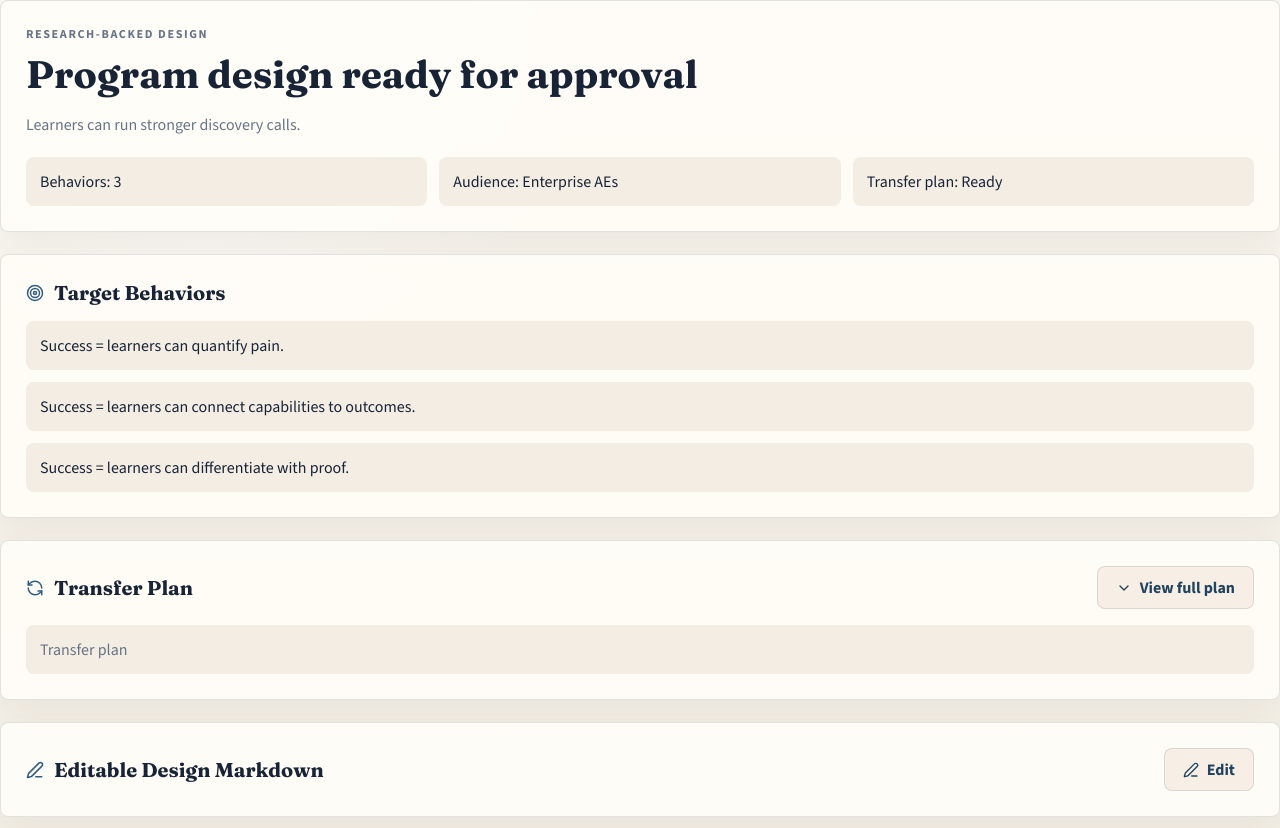
it: DesignApproval › reruns design from the editor and refreshes markdown with generated fallback
The width and height of the screenshot is (1280, 828).
Click the button with aria-label "Edit design markdown" at (1209, 770), box top-left (1164, 748), bottom-right (1254, 791)
(page scrolled)
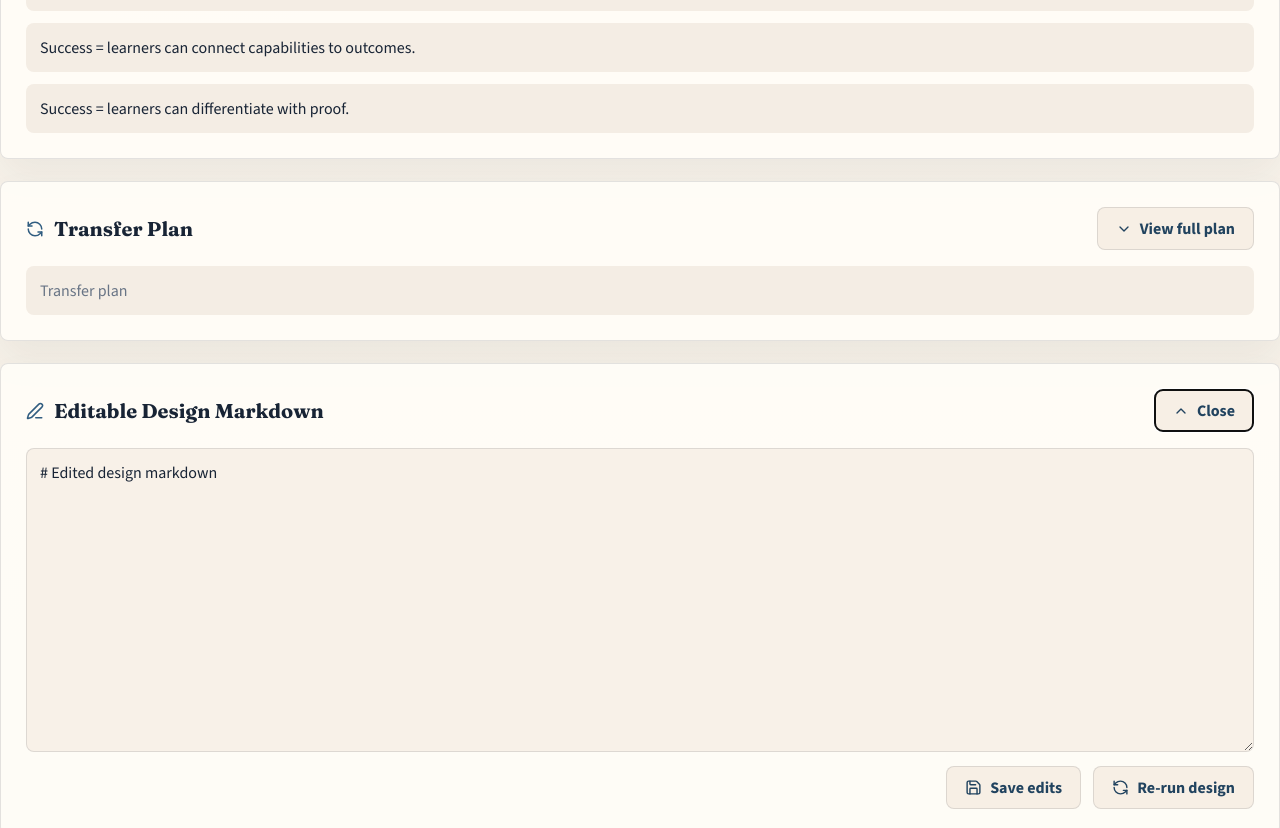
Click the button "Re-run design" at (1174, 788), box top-left (1093, 766), bottom-right (1254, 809)
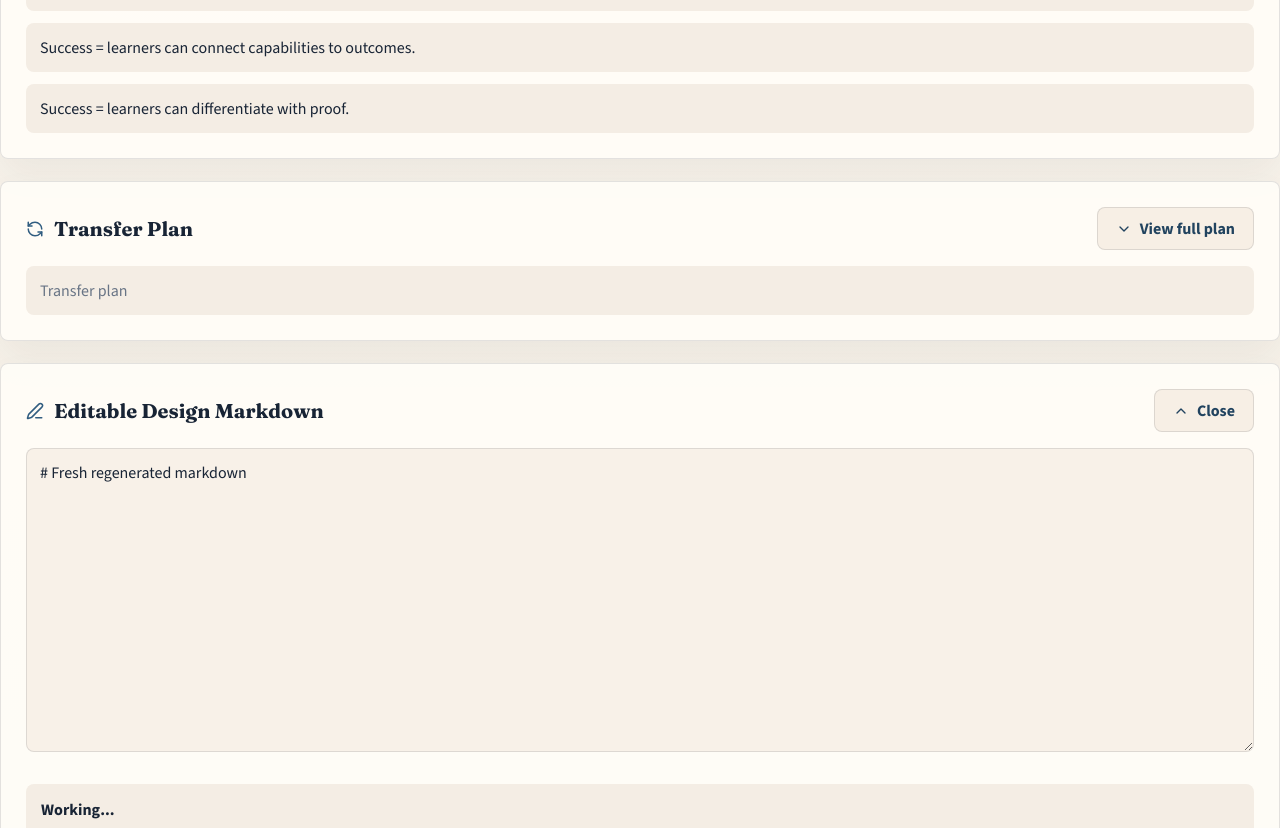
Expected: the text box named "Editable design markdown" holds "# Fresh regenerated markdown", top-left (26, 448), bottom-right (1254, 752)
